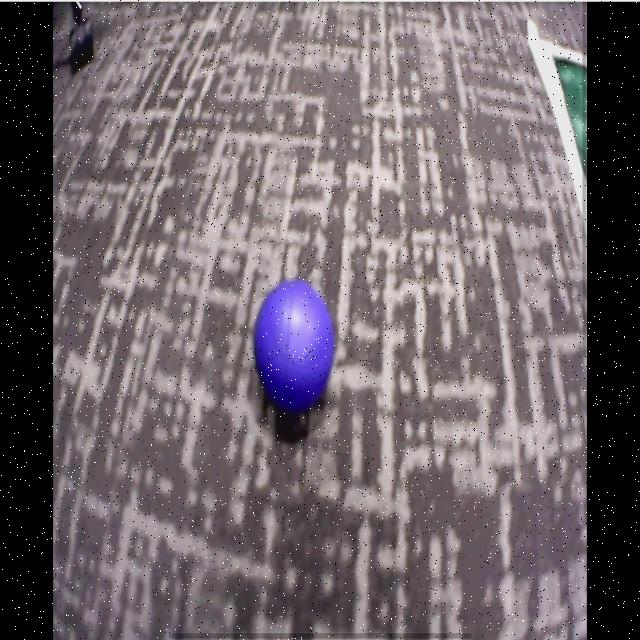ball: (253, 280, 336, 408)
